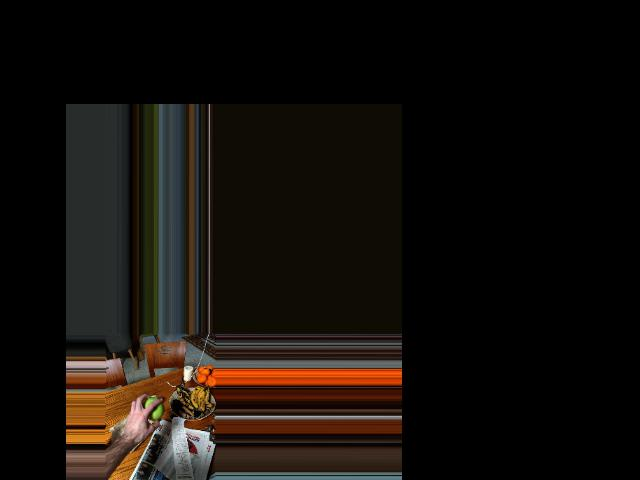apple: (141, 396, 163, 421)
